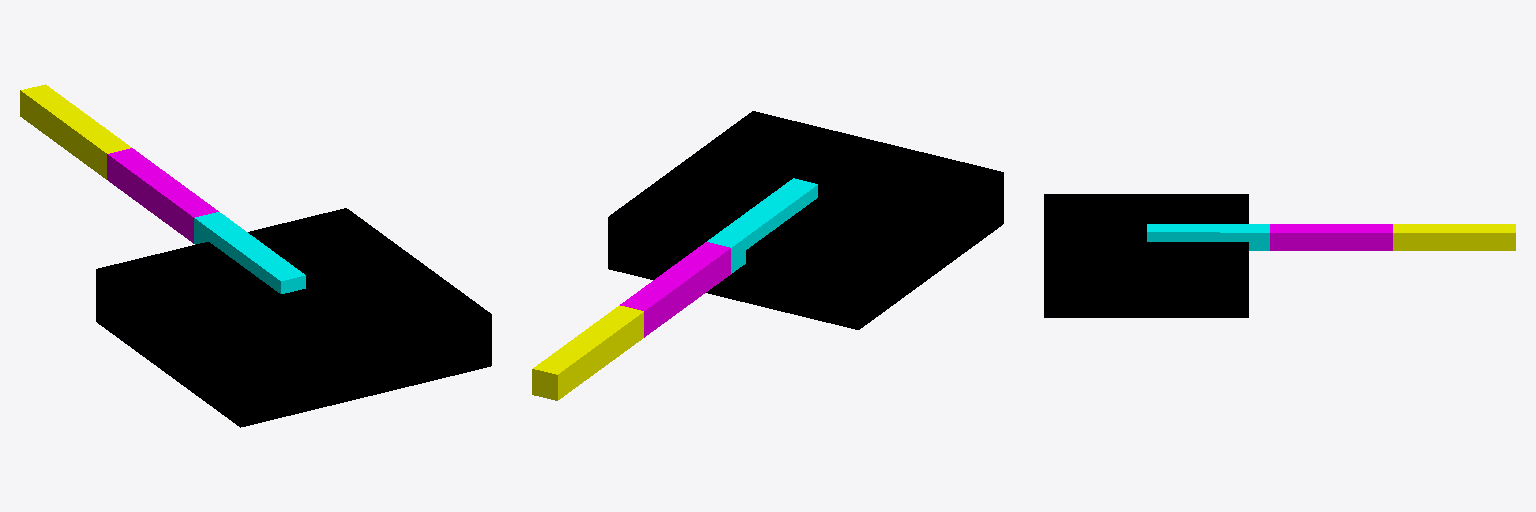
URDF robot description (robot):
<robot name="robot">
  <!--Descripción de los eslabones-->
  <link name="base_link">
    <visual>
      <geometry>
        <box size="0.5 0.5 0.1"/>
      </geometry>
      <origin xyz="0 0 -0.05"/>
      <material name="black">
        <color rgba="0 0 0 0.5"/>
      </material>
    </visual>
  </link>

  <link name="shoulder_link">
    <visual>
      <geometry>
        <box size="0.3 0.05 0.05"/>
      </geometry>
      <origin xyz="0.15 0 0"/>
      <material name="cyan">
        <color rgba="0 1 1 1"/>
      </material>
    </visual>
  </link>
  <link name="arm_link">
    <visual>
      <geometry>
        <box size="0.3 0.05 0.05"/>
      </geometry>
      <origin xyz="0.15 0 0"/>
      <material name="magenta">
        <color rgba="1 0 1 1"/>
      </material>
    </visual>
  </link>
  <link name="forearm_link">
    <visual>
      <geometry>
        <box size="0.3 0.05 0.05"/>
      </geometry>
      <origin xyz="0.15 0 0"/>
      <material name="yellow">
        <color rgba="1 1 0 1"/>
      </material>
    </visual>
  </link>

  <!--Descripción de las juntas-->
  <joint name="shoulder_joint" type="revolute"> <!--tipo de junta: revolute, prismatic, fixed-->
    <parent link="base_link"/>
    <child link="shoulder_link"/>
    <axis xyz="0 0 1"/>
    <limit lower="-3.14" upper ="3.14"/>
    <origin rpy="1.57 0 1.57"/> <!--roll, pitch, yaw-->
  </joint>
  <joint name="arm_joint" type="revolute"> <!--tipo de junta: revolute, prismatic, fixed-->
    <parent link="shoulder_link"/>
    <child link="arm_link"/>
    <axis xyz="0 0 1"/>
    <limit lower="-3.14" upper ="3.14"/>
    <origin xyz="0.3 0 0"/>
  </joint>
  <joint name="forearm_joint" type="revolute"> <!--tipo de junta: revolute, prismatic, fixed-->
    <parent link="arm_link"/>
    <child link="forearm_link"/>
    <axis xyz="0 0 1"/>
    <limit lower="-3.14" upper ="3.14"/>
    <origin xyz="0.3 0 0"/>
  </joint>
</robot>

--- Facts derived from the render (not from the file) ---
3 views of the same robot in one strip: view 1: azimuth 30°, elevation 25°; view 2: azimuth 150°, elevation 25°; view 3: azimuth 270°, elevation 25° (orthographic).
Model robot with 4 links and 3 joints (3 revolute), rooted at base_link, posed every joint at zero.
Links seen in each view (by area): view 1: base_link, arm_link, forearm_link, shoulder_link; view 2: base_link, forearm_link, arm_link, shoulder_link; view 3: base_link, arm_link, forearm_link, shoulder_link.
Link boxes in pixels (x1,y1,x2,y2): base_link: (96, 208, 491, 427); arm_link: (107, 148, 218, 243); forearm_link: (20, 84, 131, 179); shoulder_link: (194, 212, 305, 293); base_link: (608, 111, 1003, 329); forearm_link: (532, 305, 643, 400); arm_link: (620, 242, 730, 337); shoulder_link: (707, 178, 817, 273); base_link: (1044, 194, 1248, 317); arm_link: (1270, 224, 1392, 250); forearm_link: (1393, 224, 1515, 250); shoulder_link: (1147, 224, 1269, 250).
Bounding box of the posed robot: 0.5 × 1.15 × 0.125 m (x, y, z).
Geometry: primitives only (box / cylinder / sphere), no mesh files.
